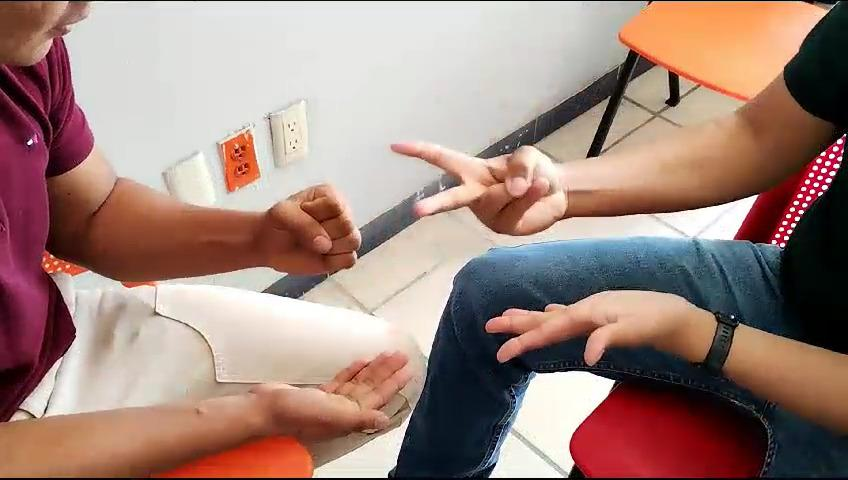Scissor: (367, 122, 585, 248)
Stone: (247, 178, 372, 298)
